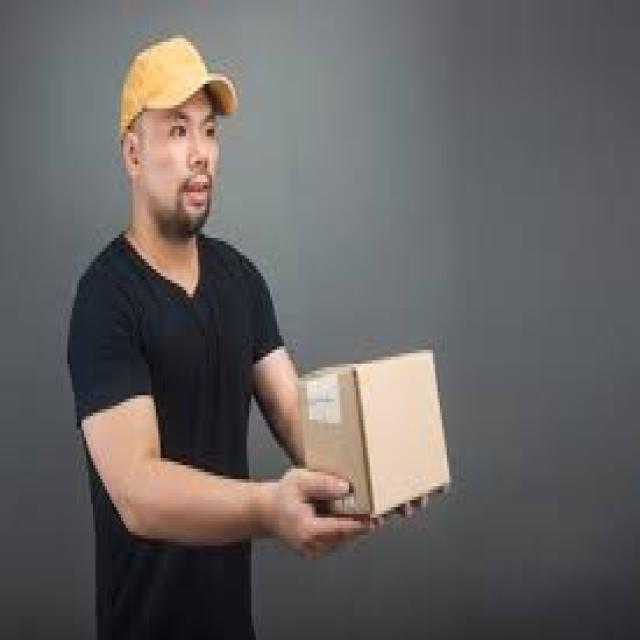cap: (114, 31, 240, 238)
